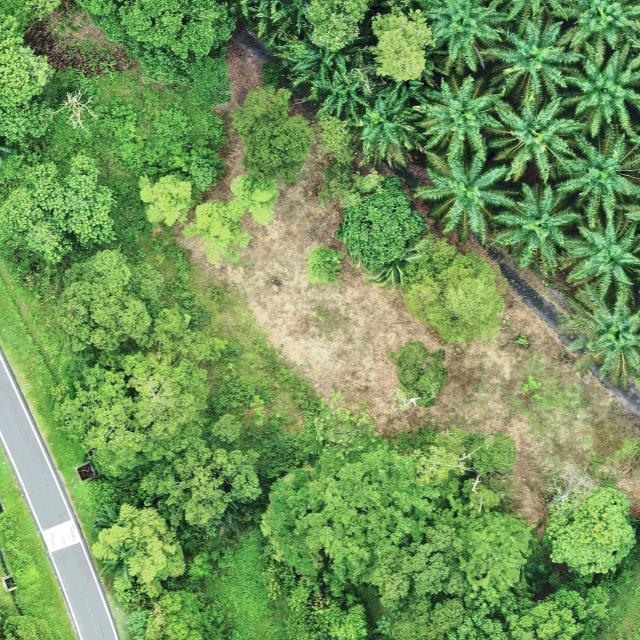Tree: (262, 432, 533, 603), (52, 305, 225, 482), (0, 148, 118, 266), (53, 248, 165, 351), (336, 174, 435, 289), (137, 439, 260, 526), (412, 147, 520, 244), (489, 180, 587, 284), (485, 87, 585, 186), (415, 69, 514, 168), (402, 252, 506, 344), (551, 125, 640, 231), (90, 504, 187, 600), (483, 11, 583, 100), (542, 484, 636, 578), (556, 288, 640, 392), (228, 85, 316, 184), (560, 42, 640, 140), (562, 212, 640, 305), (345, 88, 427, 168), (424, 0, 507, 69), (366, 7, 435, 83), (310, 49, 375, 123), (301, 0, 376, 52), (2, 614, 55, 640), (0, 127, 13, 180)
